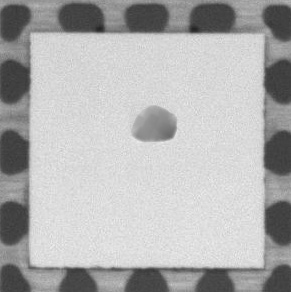DIE_INK: (125, 100, 180, 147)
